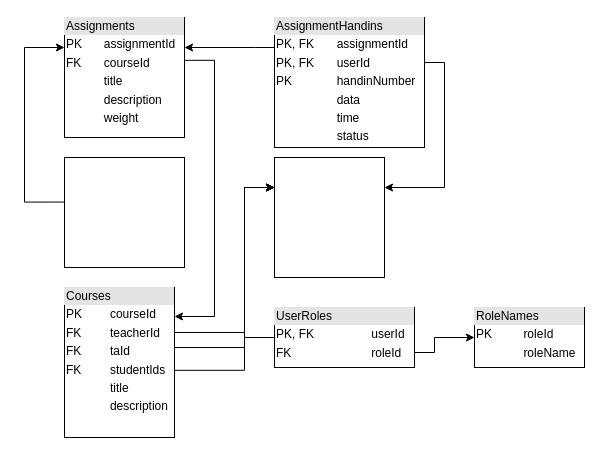
Some shapes in this 602 by 455 pixel diagram are drawn without their labels. Each missing label, with the centre of its shape:
AssignmentParts PK partId FK assignmentId description weight: point 124,212
Users PK userId name email password SSN: point 329,217
